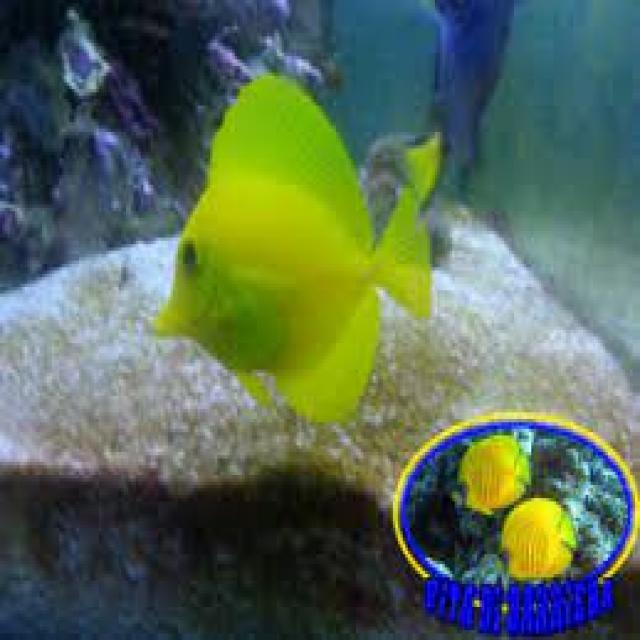YellowTang: (144, 64, 455, 436)
